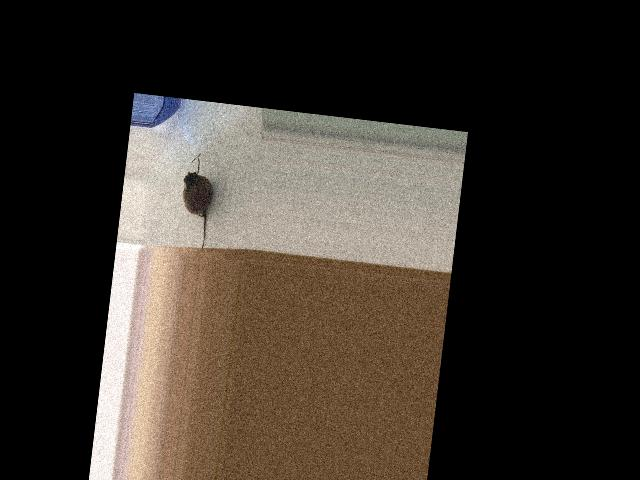beet: (176, 152, 217, 251)
